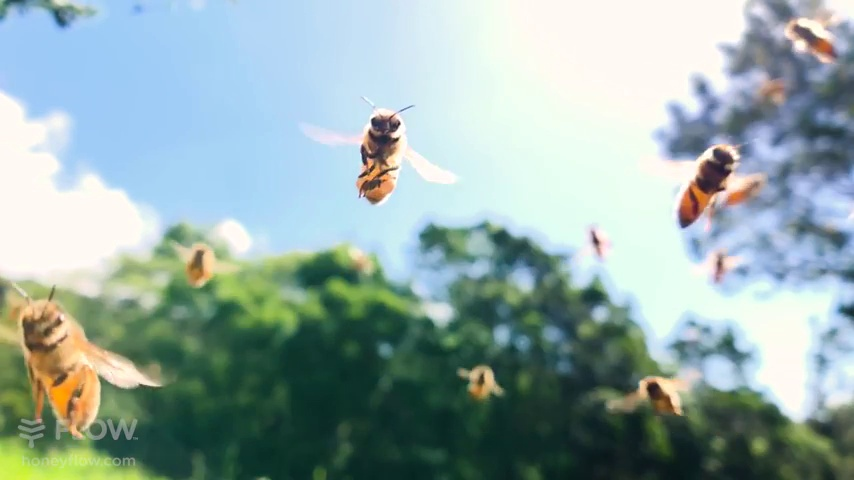insect: (1, 286, 151, 435), (302, 102, 451, 204), (673, 132, 755, 225), (609, 374, 694, 415), (168, 237, 227, 291), (785, 12, 841, 63), (455, 363, 503, 399), (695, 248, 737, 280), (586, 223, 613, 255)
